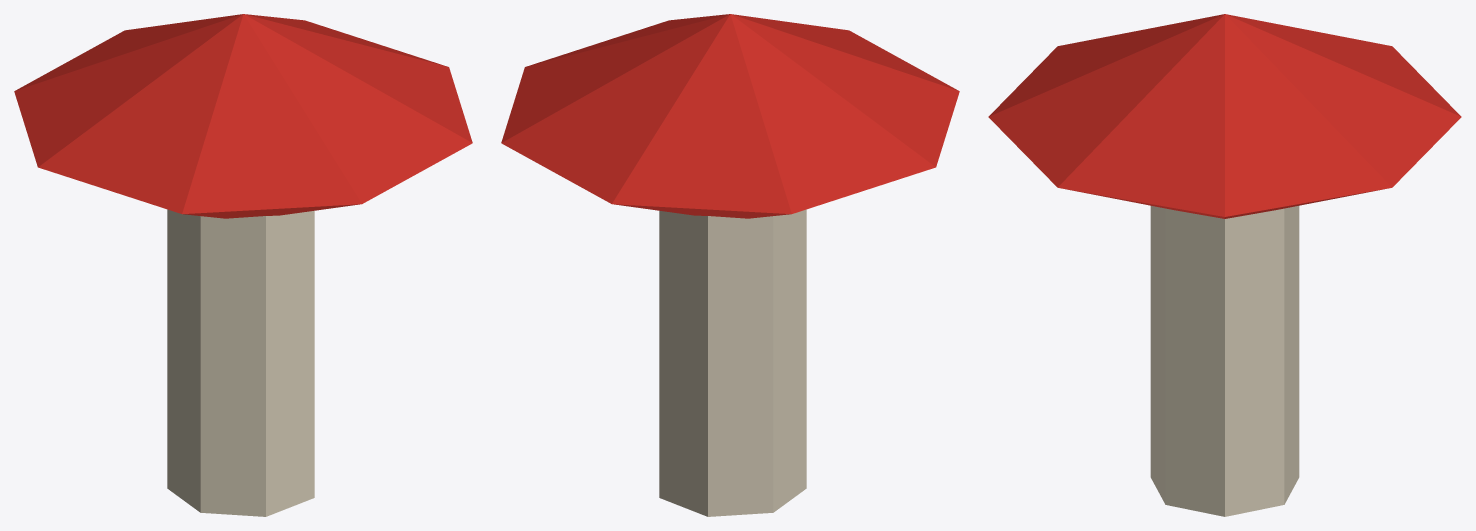
Rendered from mushroom_red.obj.
3 renders of one model, left to right at view 1: azimuth 30°, elevation 25°; view 2: azimuth 150°, elevation 25°; view 3: azimuth 270°, elevation 25°, orthographic.
Size of the model in its own units: 0.56 by 0.6144 by 0.56.
Materials: 2 (2 with a texture image).
